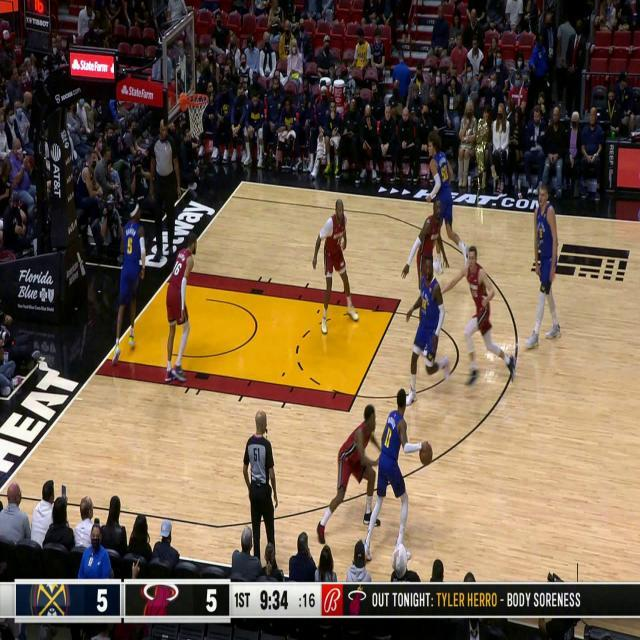rim: (420, 442, 432, 465)
